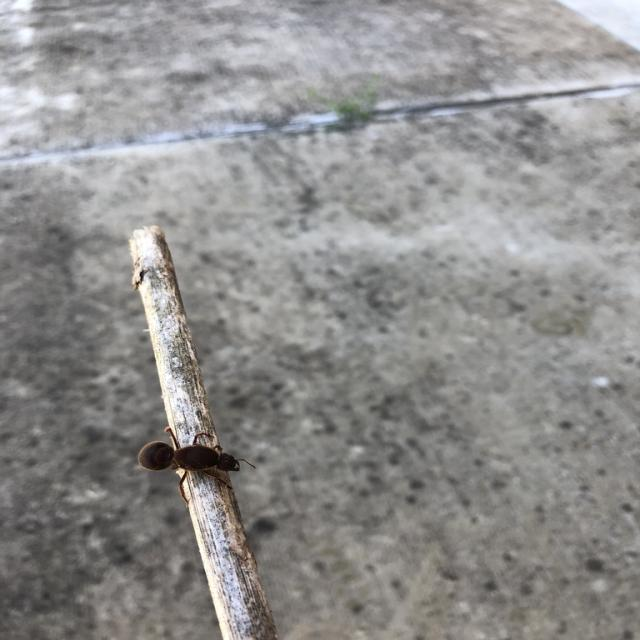Alive-Female-Dealate: (138, 426, 256, 509)
